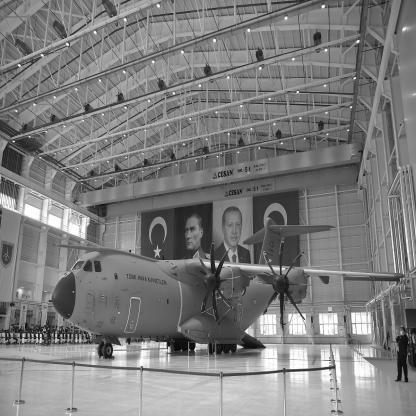A400M: (52, 218, 406, 360)
